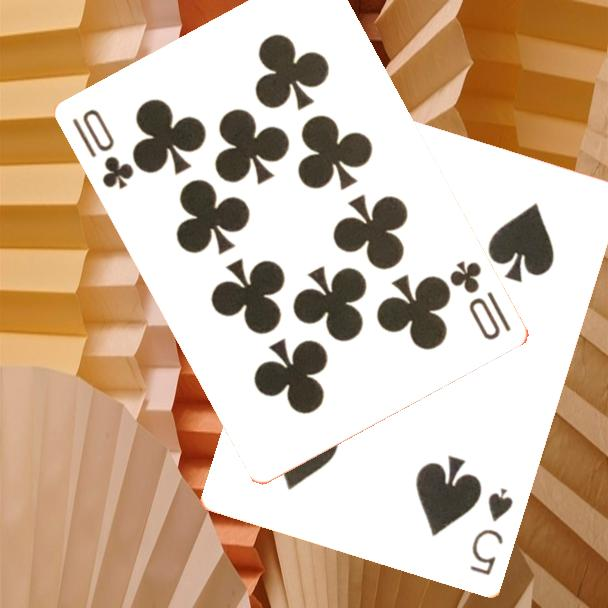c10: (446, 257, 515, 344), (69, 105, 138, 192)
s05: (466, 485, 517, 579)
